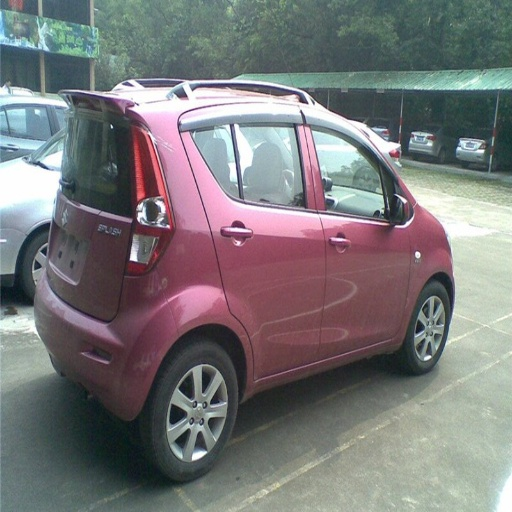back_right_door: (192, 102, 325, 380)
trunk: (45, 186, 133, 320)
